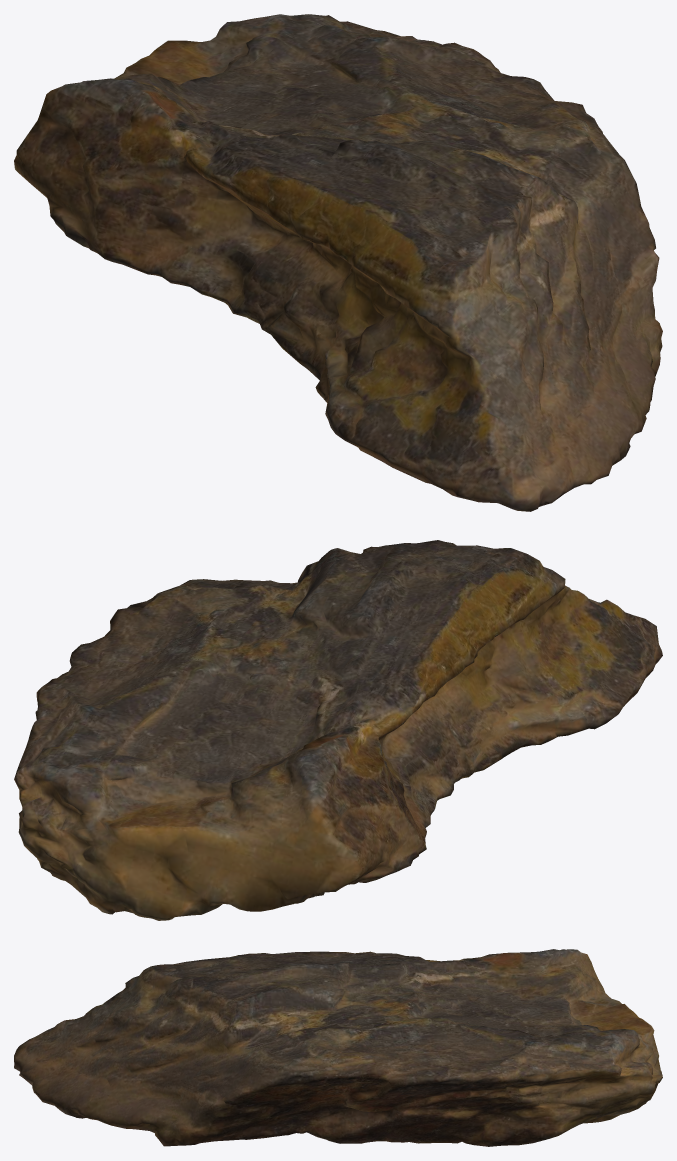
Rendered from rock_09.glb.
The picture shows the model from 3 angles, top to bottom: view 1: azimuth 30°, elevation 25°; view 2: azimuth 150°, elevation 25°; view 3: azimuth 270°, elevation 25°; orthographic projection. The views are drawn at different scales.
Visible parts, largest first — view 1: rock_09_LOD0; view 2: rock_09_LOD0; view 3: rock_09_LOD0.
Part boxes in pixels (x1,y1,x2,y2): rock_09_LOD0: (14, 14, 662, 511); rock_09_LOD0: (14, 540, 662, 920); rock_09_LOD0: (14, 949, 662, 1146).
Size of the model in its own units: 0.074 by 0.0329 by 0.1446.
1 material, 1 textured.
